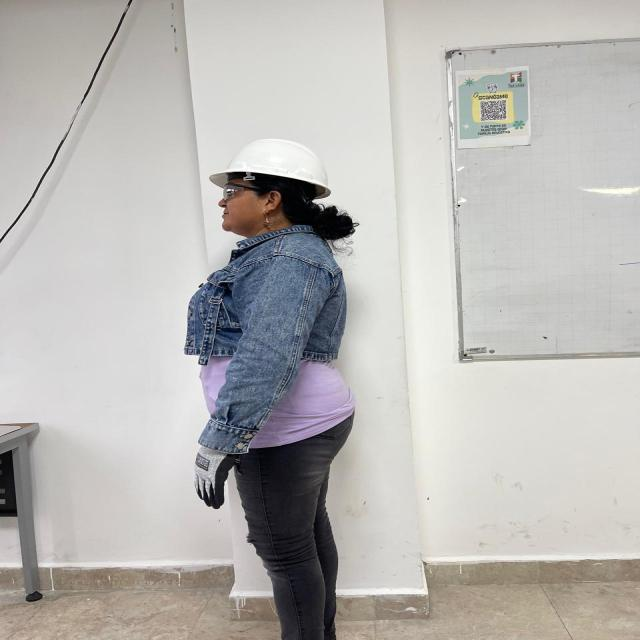gloves: (193, 445, 235, 509)
helmet: (210, 139, 332, 199)
protective_glasses: (222, 178, 262, 201)
